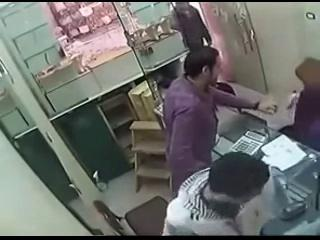Normal: (162, 47, 278, 194), (160, 152, 274, 236)
